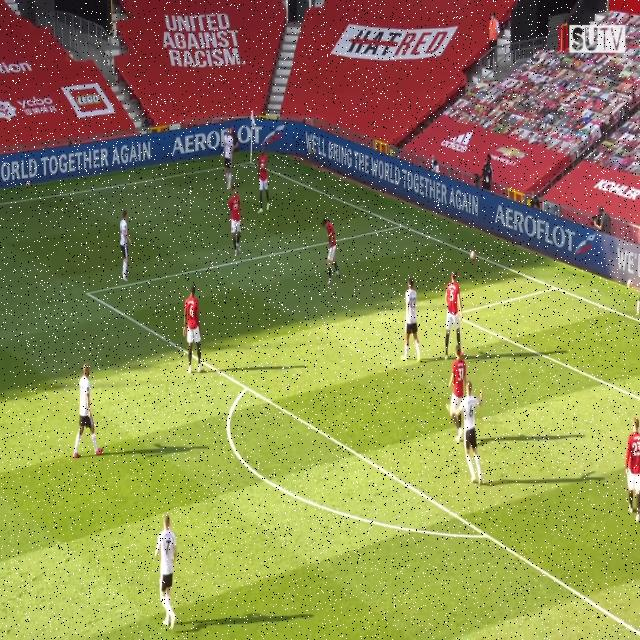Ball: (468, 248, 476, 263)
TEAM 1: (623, 414, 640, 520), (444, 270, 464, 360), (184, 288, 204, 376), (450, 344, 465, 439), (405, 278, 422, 361), (324, 216, 342, 288), (258, 142, 274, 214), (228, 185, 244, 257)
TEAM 2: (448, 377, 484, 482), (154, 516, 178, 634), (72, 363, 101, 458), (221, 127, 239, 188), (119, 208, 133, 280)
